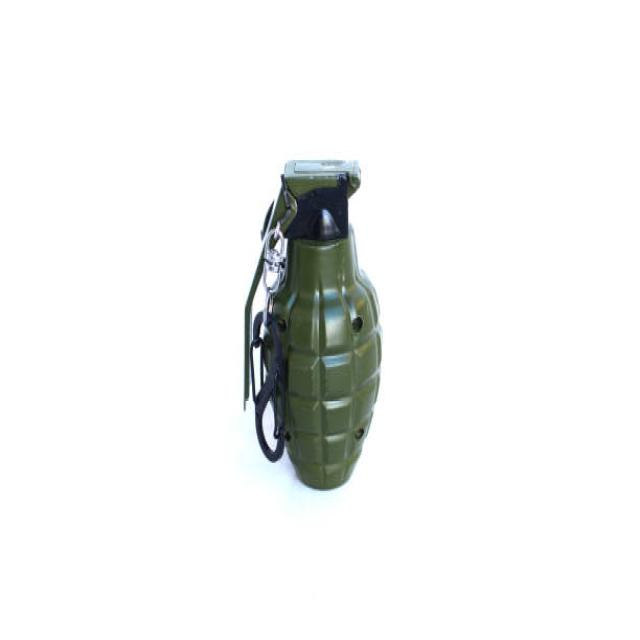grenade: (236, 141, 391, 497)
